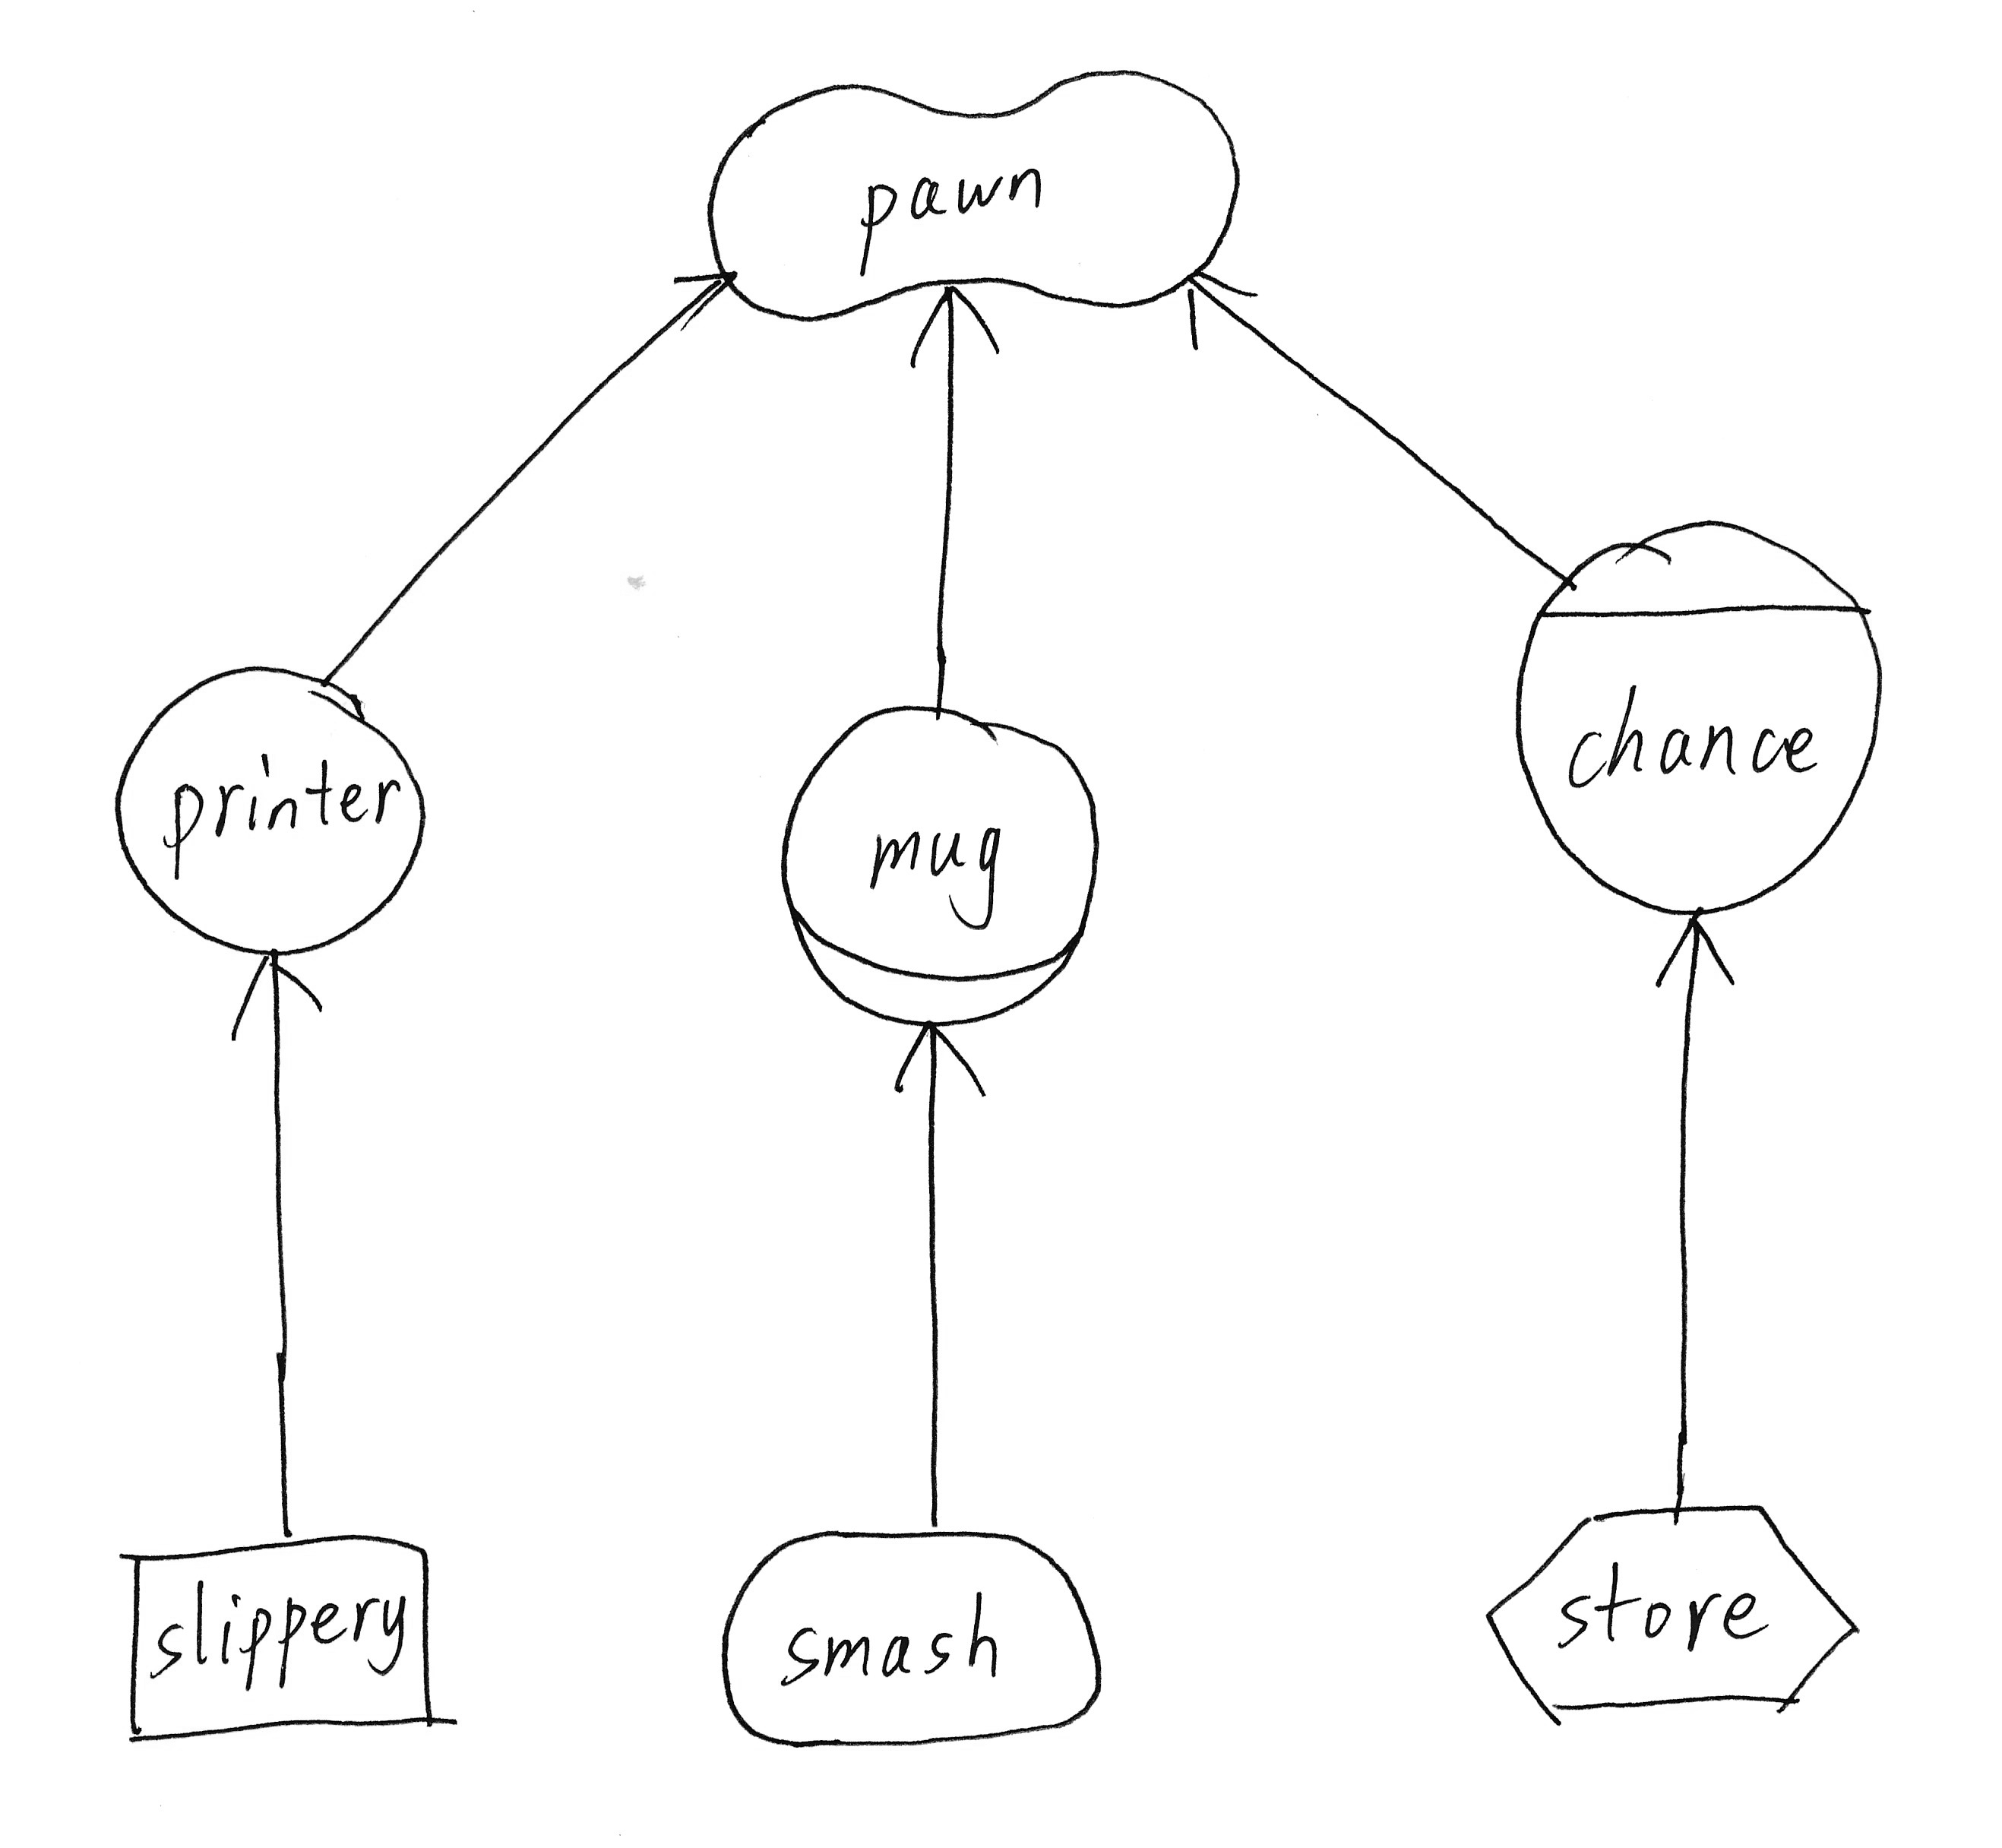actor: (94, 652, 446, 976)
agent: (1498, 502, 1897, 933)
arrow: (888, 1009, 994, 1126), (227, 933, 328, 1055), (1641, 898, 1749, 1009), (1170, 255, 1275, 363), (903, 274, 1003, 385), (664, 258, 745, 331)
goal: (705, 1512, 1121, 1768)
quality: (691, 45, 1240, 328)
resource: (103, 1517, 467, 1740)
role: (759, 680, 1118, 1043)
task: (1470, 1489, 1878, 1742)
